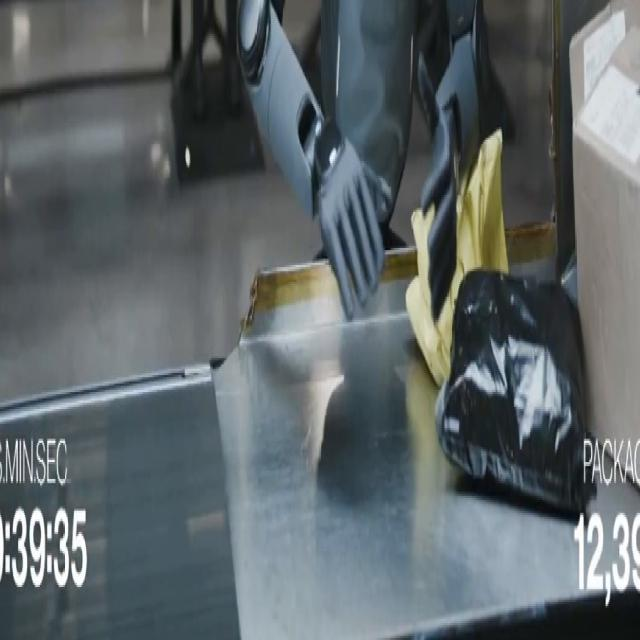package: (436, 272, 595, 512), (573, 3, 639, 449), (406, 130, 508, 387), (570, 0, 639, 118)
